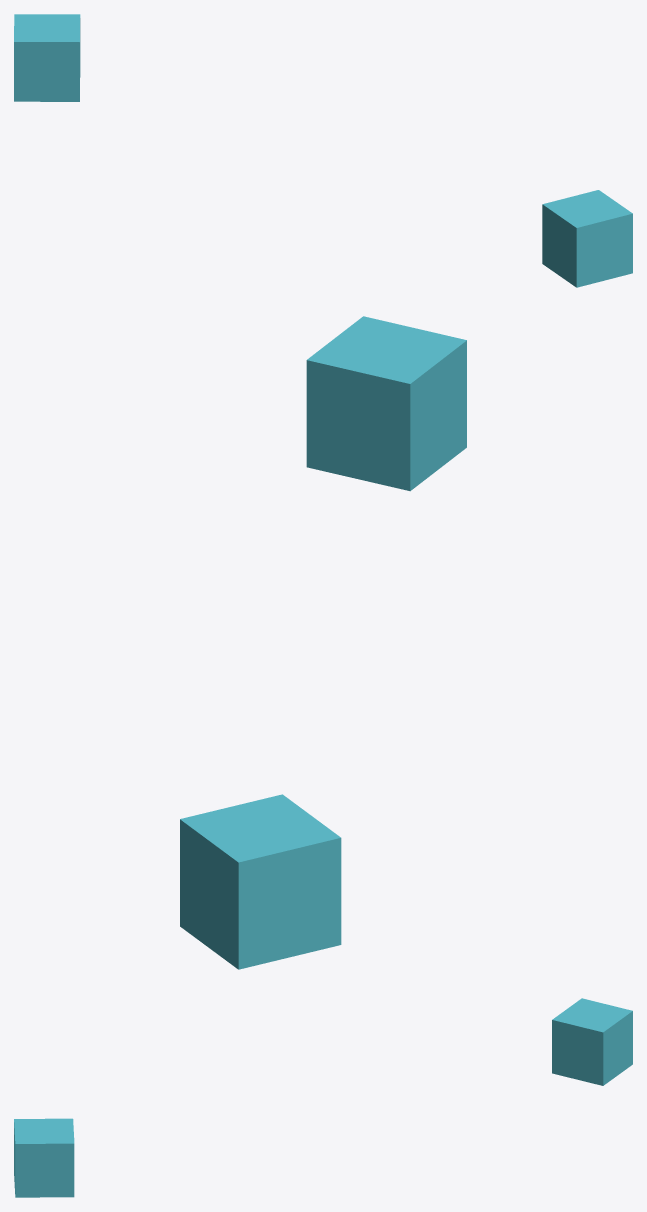
Rendered from 867_chimney.glb.
3 views of the same model, one above another, from view 1: azimuth 30°, elevation 25°; view 2: azimuth 150°, elevation 25°; view 3: azimuth 270°, elevation 25° (orthographic). The views are drawn at different scales.
Parts seen in each view (by area): view 1: Box003, Box004; view 2: Box004, Box003; view 3: Box004, Box003.
Part boxes in pixels (bbox=[...]): Box003: bbox=[542, 190, 632, 287]; Box004: bbox=[14, 14, 80, 101]; Box004: bbox=[180, 794, 341, 969]; Box003: bbox=[306, 316, 466, 491]; Box004: bbox=[552, 998, 632, 1085]; Box003: bbox=[14, 1118, 74, 1197].
Size of the model in its own units: 4.41 by 1.03 by 8.69.
